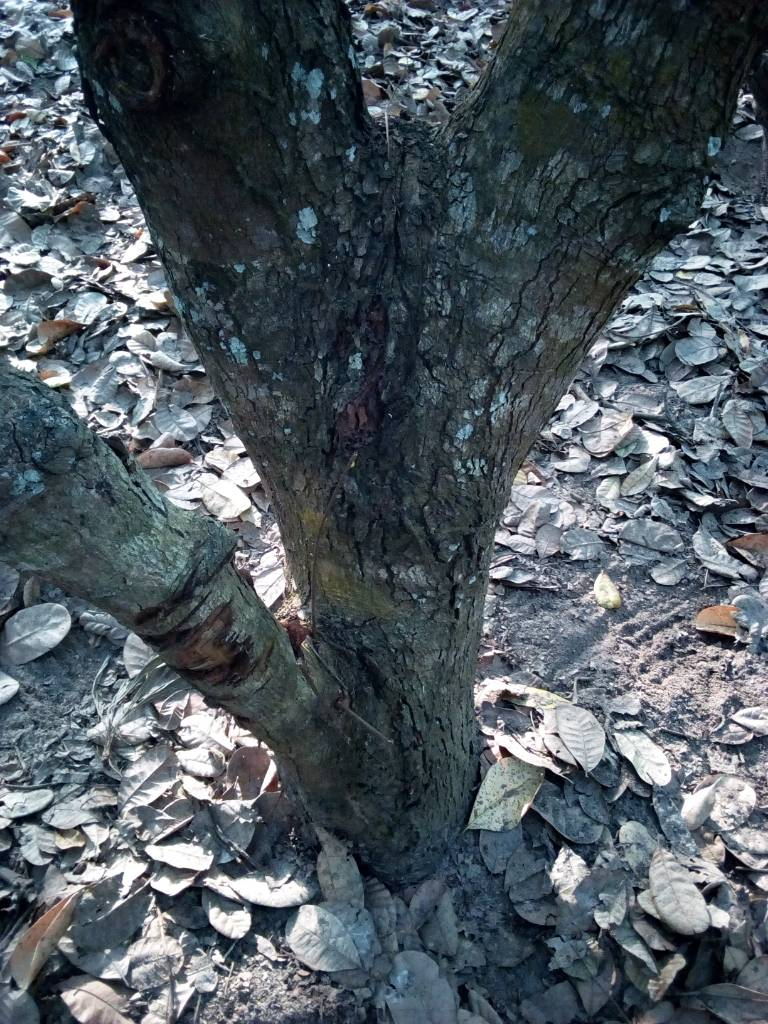Gommose: (308, 258, 485, 589)
